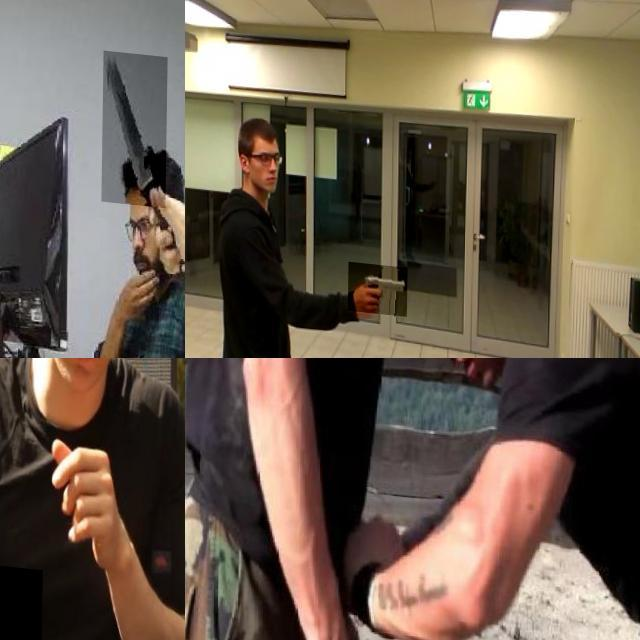-: (102, 43, 168, 198), (0, 560, 44, 640)
gun-knife-thesis - v11 Yolov5 augmented: (349, 254, 408, 308)
